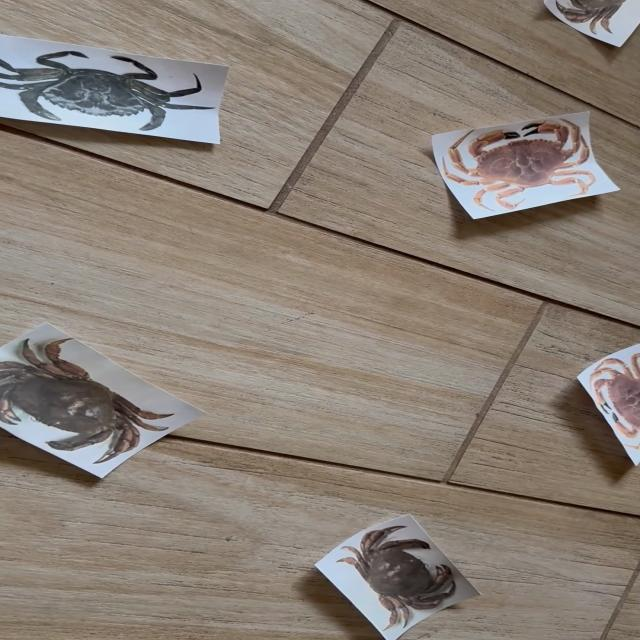egc: (0, 51, 215, 131)
